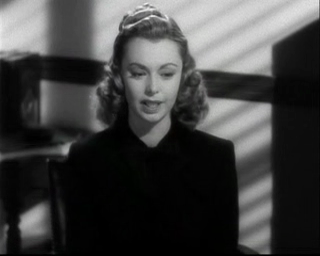face: (124, 54, 182, 124)
mcu: (1, 1, 320, 256)
person: (61, 2, 242, 256)
